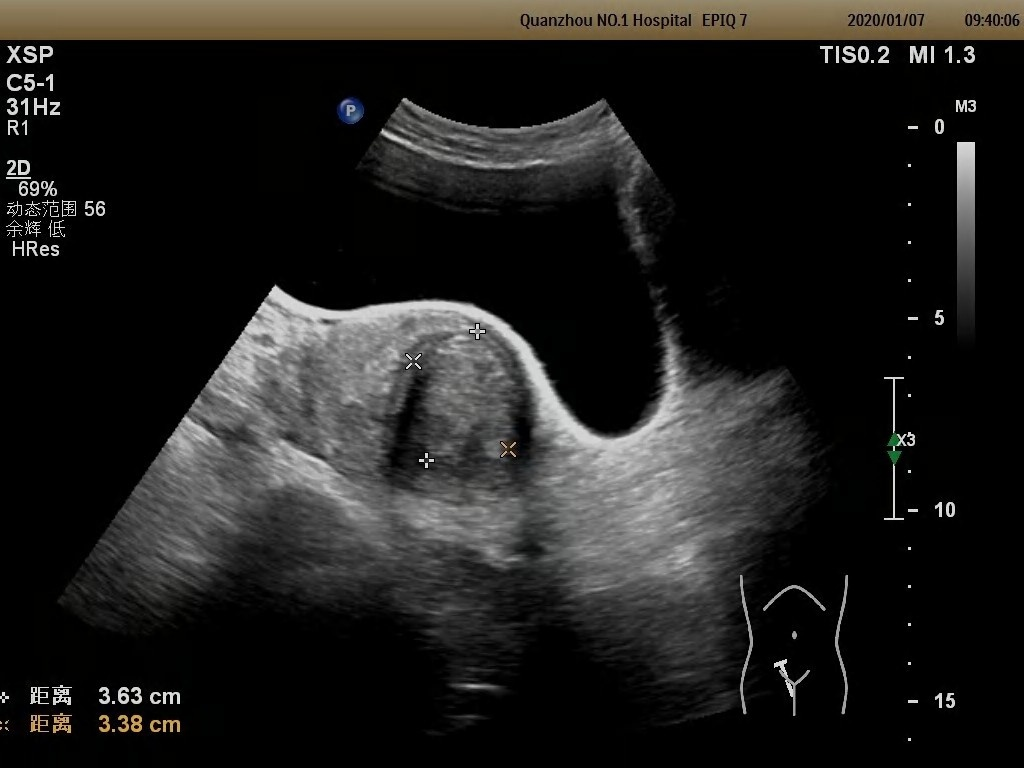肌瘤: (414, 328, 517, 474)
